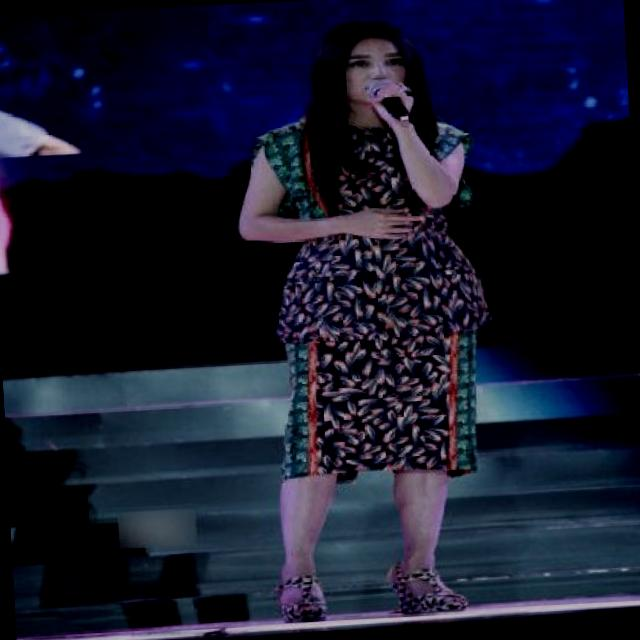Person: (226, 3, 516, 630)
